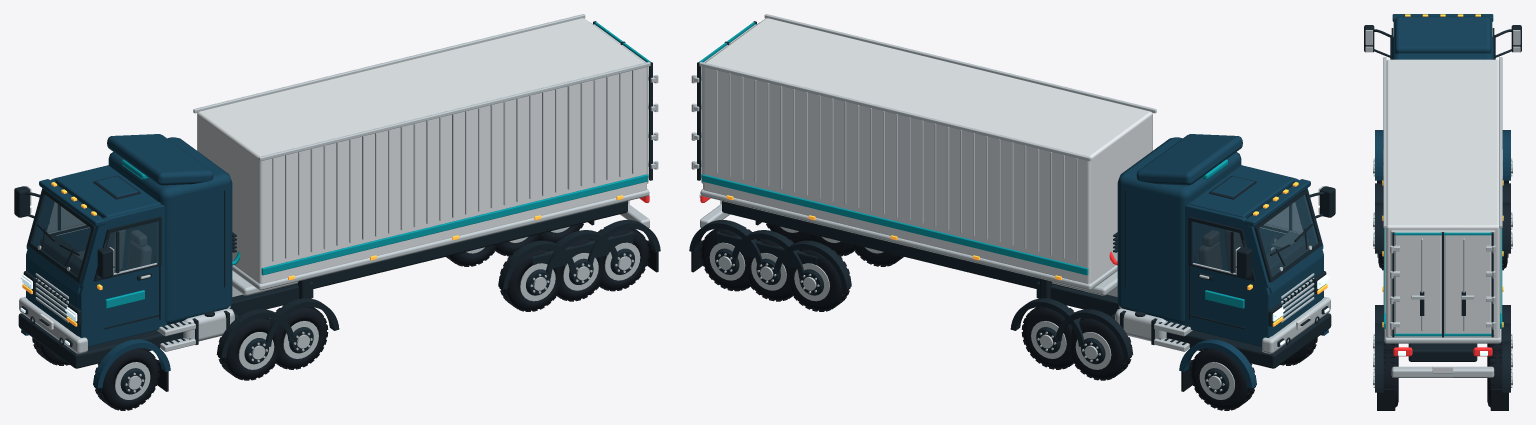
File: cargomesh-truck.glb
The picture shows the model from 3 angles, left to right: view 1: azimuth 30°, elevation 25°; view 2: azimuth 150°, elevation 25°; view 3: azimuth 270°, elevation 25°; orthographic projection. The views are drawn at different scales.
Parts seen in each view (by area): view 1: trailer, paint, alloy, dark, tyre, glass, teal, interior; view 2: trailer, paint, alloy, dark, tyre, glass, teal, interior; view 3: trailer, alloy, dark, paint, tyre, teal, red, amber.
Boxes of the visible parts, bbox=[...] form: trailer: bbox=[40, 18, 646, 329]; paint: bbox=[21, 134, 232, 388]; alloy: bbox=[19, 14, 658, 399]; dark: bbox=[14, 21, 660, 394]; tyre: bbox=[32, 220, 658, 410]; glass: bbox=[31, 194, 158, 277]; teal: bbox=[105, 22, 650, 308]; interior: bbox=[73, 230, 151, 271]; trailer: bbox=[703, 18, 1309, 329]; paint: bbox=[1117, 134, 1328, 388]; alloy: bbox=[691, 14, 1330, 399]; dark: bbox=[689, 21, 1335, 394]; tyre: bbox=[691, 220, 1317, 410]; glass: bbox=[1191, 194, 1318, 277]; teal: bbox=[699, 22, 1244, 308]; interior: bbox=[1198, 230, 1302, 271]; trailer: bbox=[1386, 59, 1499, 373]; alloy: bbox=[1365, 30, 1520, 387]; dark: bbox=[1364, 25, 1521, 392]; paint: bbox=[1375, 14, 1510, 180]; tyre: bbox=[1377, 180, 1508, 410]; teal: bbox=[1383, 228, 1502, 336]; red: bbox=[1393, 347, 1492, 356]; amber: bbox=[1382, 14, 1503, 327].
Size of the model in its own units: 7.47 by 2.69 by 1.97.
